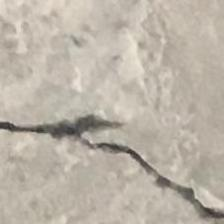Crack: (5, 93, 224, 224)
